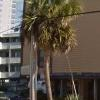Palm tree: (22, 7, 74, 99)
